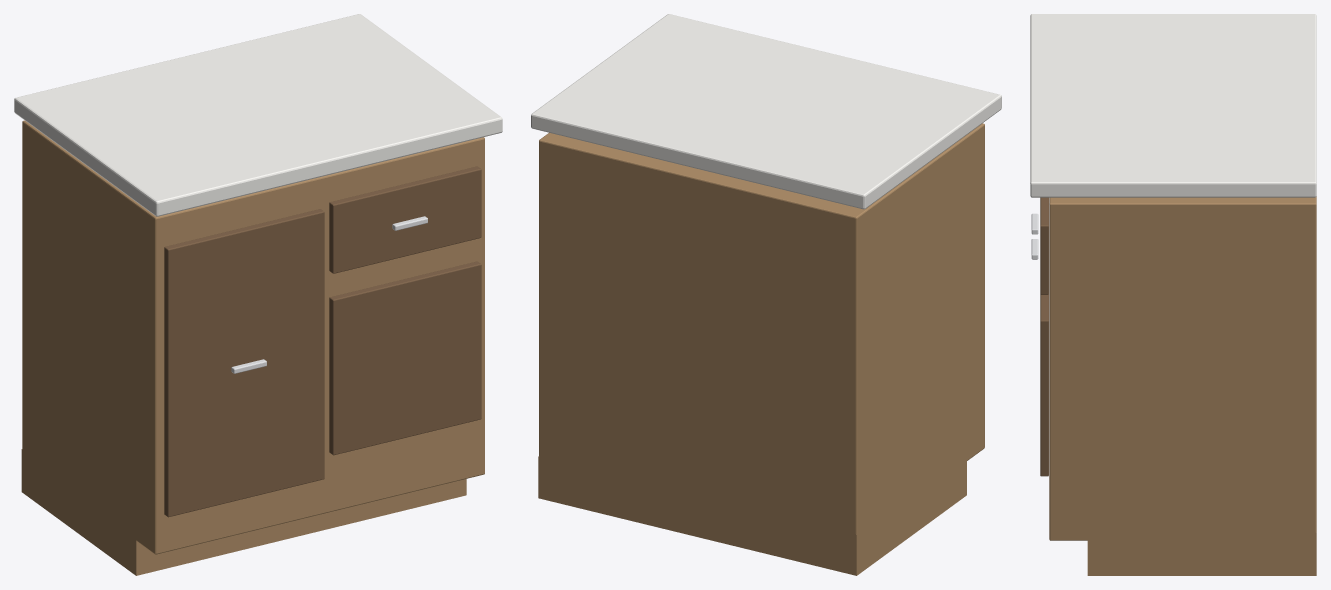
The model's file is casework-base-cabinet.glb.
The picture shows the model from 3 angles, left to right: view 1: azimuth 30°, elevation 25°; view 2: azimuth 150°, elevation 25°; view 3: azimuth 270°, elevation 25°; orthographic projection. The views are drawn at different scales.
Visible parts, largest first — view 1: Carcass.002, Top.002, Door, Drawer2, Drawer, Toe; view 2: Carcass.002, Top.002, Toe; view 3: Carcass.002, Top.002, Toe, Drawer2, Drawer.
Part boxes in pixels (<box>): Carcass.002: <box>22,120,484,554</box>; Top.002: <box>14,14,502,216</box>; Door: <box>164,209,324,517</box>; Drawer2: <box>329,261,481,455</box>; Drawer: <box>329,166,481,273</box>; Toe: <box>21,449,466,575</box>; Carcass.002: <box>539,123,984,540</box>; Top.002: <box>531,14,1001,209</box>; Toe: <box>538,454,966,575</box>; Carcass.002: <box>1049,196,1316,540</box>; Top.002: <box>1030,14,1316,197</box>; Toe: <box>1087,532,1316,575</box>; Drawer2: <box>1040,294,1048,476</box>; Drawer: <box>1040,197,1048,294</box>.
Size of the model in its own units: 0.84 by 0.918 by 0.6.
